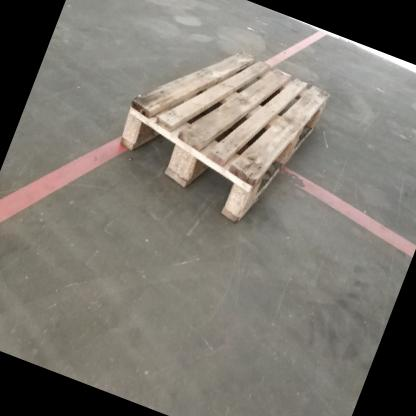BoxFace: (115, 47, 333, 229)
